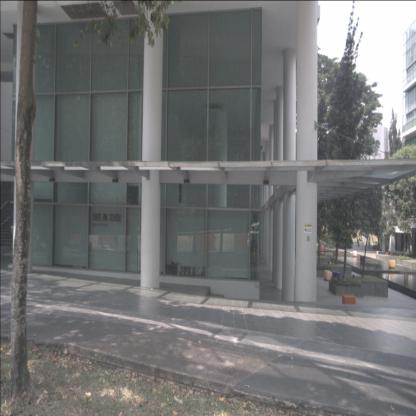movable_object-barrier: (136, 233, 155, 254), (176, 233, 195, 252), (195, 232, 214, 251), (213, 231, 232, 249), (232, 232, 248, 248), (116, 233, 130, 250), (99, 233, 114, 248), (85, 232, 99, 248), (70, 234, 81, 246)
